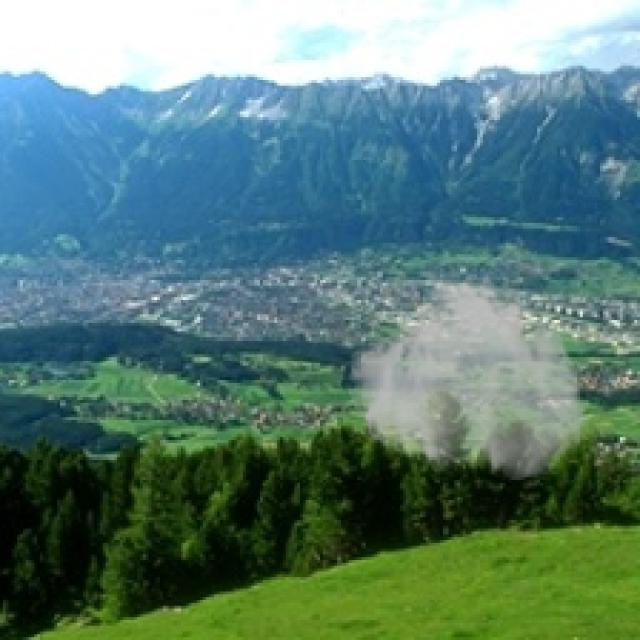smoke: (346, 266, 591, 483)
